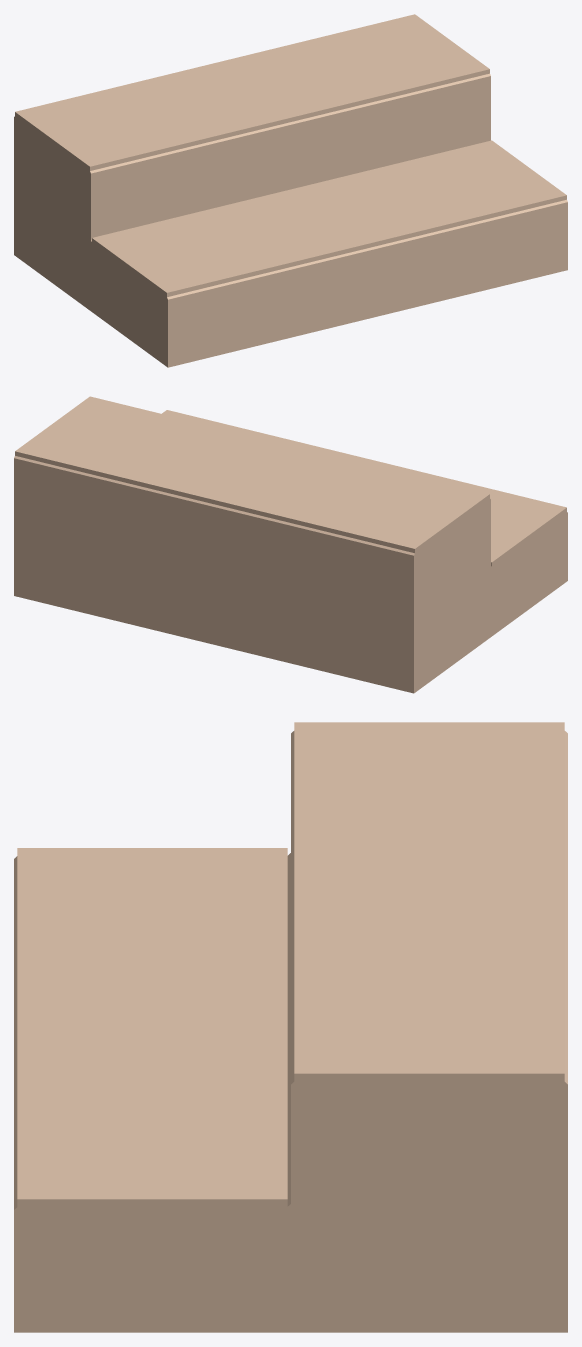
File: Stairs_3_2_1_Colored.fbx
3 renders of one model, top to bottom at view 1: azimuth 30°, elevation 25°; view 2: azimuth 150°, elevation 25°; view 3: azimuth 270°, elevation 25°, orthographic. The views are drawn at different scales.
Parts seen in each view (by area): view 1: Stairs_3_2_1; view 2: Stairs_3_2_1; view 3: Stairs_3_2_1.
Boxes of the visible parts, box(x1,y1,x2,y2) form: Stairs_3_2_1: box(14, 14, 567, 367); Stairs_3_2_1: box(14, 396, 567, 693); Stairs_3_2_1: box(14, 722, 567, 1332).
Bounding box in the file's own units: 300 × 103 × 200.
